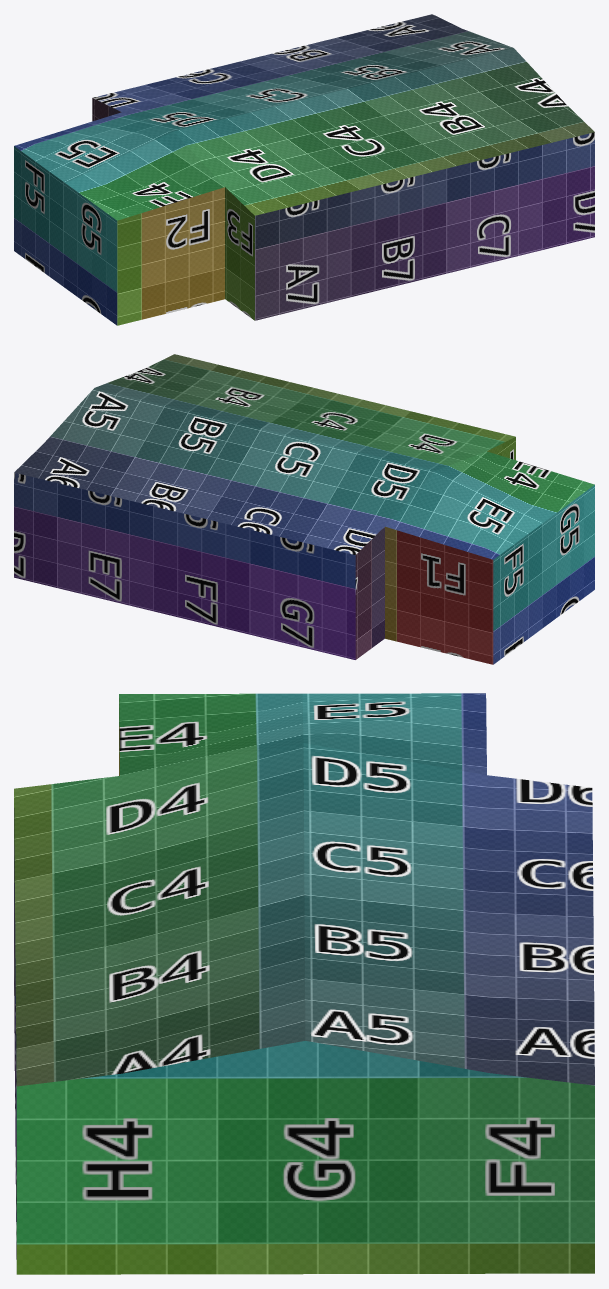
File: house_d.gltf
3 views of the same model, one above another, from view 1: azimuth 30°, elevation 25°; view 2: azimuth 150°, elevation 25°; view 3: azimuth 270°, elevation 25° (orthographic). The views are drawn at different scales.
Visible parts, largest first — view 1: NeighborHouseE-col; view 2: NeighborHouseE-col; view 3: NeighborHouseE-col.
Boxes of the visible parts, box(x1,y1,x2,y2) form: NeighborHouseE-col: box(14, 14, 594, 325); NeighborHouseE-col: box(14, 354, 594, 664); NeighborHouseE-col: box(14, 693, 594, 1274).
Size of the model in its own units: 38.6 by 10.68 by 24.11.
Materials: 1 (1 with a texture image).
